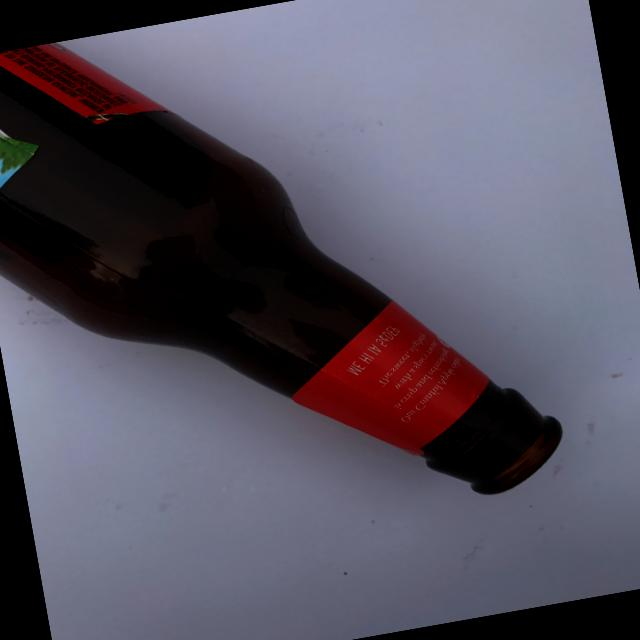Glass: (0, 0, 580, 588)
